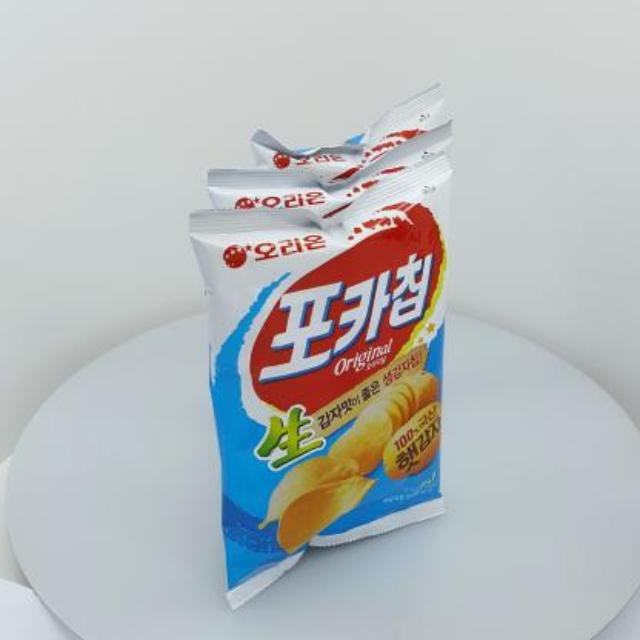snack_bag: (181, 62, 479, 630)
